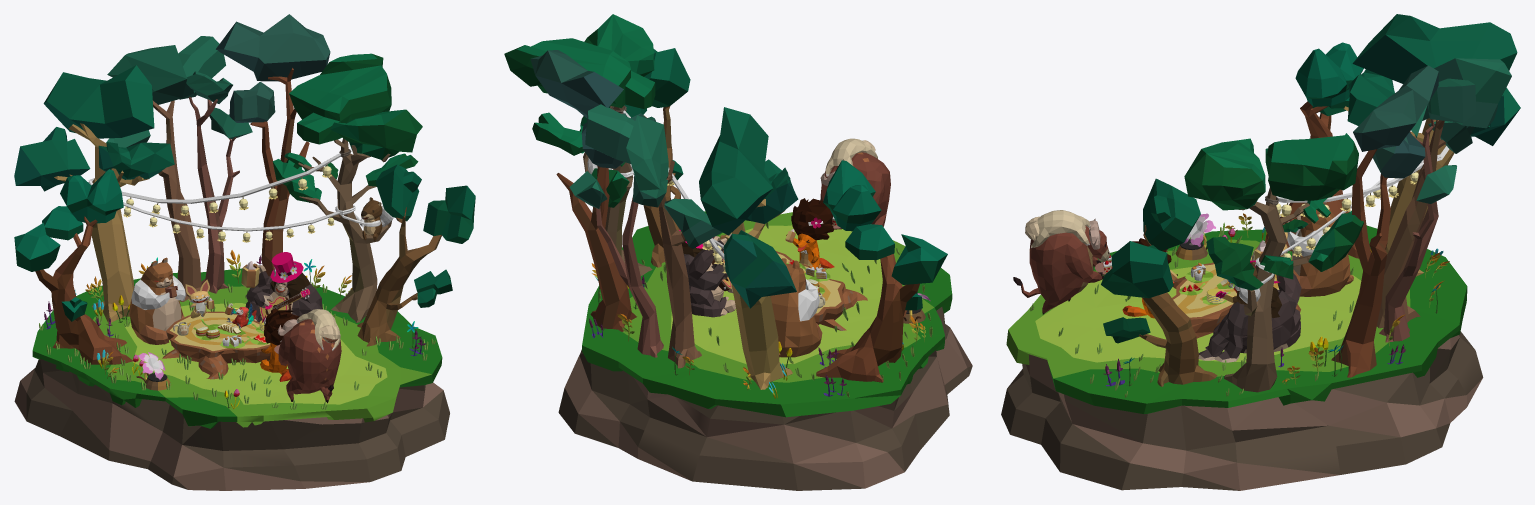
File: 0023_animalGarden.fbx
3 views of the same model, side by side, from view 1: azimuth 30°, elevation 25°; view 2: azimuth 150°, elevation 25°; view 3: azimuth 270°, elevation 25° (orthographic). The views are drawn at different scales.
Visible parts, largest first — view 1: Plate, TreeF_Leaf04, TreeB_Leaf02, TreeE_Leaf02, TreeF_Trunk, TreeA_Trunk, TreeB_Trunk, Stump_Shape, Cow_Body, TreeG_Trunk, TreeB_Leaf03, TreeF_Leaf05 (+27 smaller); view 2: Plate, TreeB_Leaf02, TreeA_Trunk, TreeF_Leaf04, TreeE_Trunk, TreeB_Leaf03, TreeB_Trunk, TreeC_Trunk, TreeE_Leaf02, TreeC_Leaf02, TreeD_Trunk, TreeA_Leaf02 (+24 smaller); view 3: Plate, TreeB_Leaf02, TreeE_Trunk, TreeF_Leaf04, TreeF_Trunk, TreeF_Leaf05, TreeE_Leaf02, Cow_Body, TreeG_Trunk, TreeG_Leaf03, TreeA_Leaf02, TreeG_Leaf02 (+23 smaller).
Boxes of the visible parts, x1,y1,x2,y2 form: Plate: [14, 268, 449, 490]; TreeF_Leaf04: [289, 53, 391, 144]; TreeB_Leaf02: [43, 65, 154, 138]; TreeE_Leaf02: [216, 14, 330, 81]; TreeF_Trunk: [298, 138, 391, 322]; TreeA_Trunk: [35, 216, 132, 364]; TreeB_Trunk: [54, 123, 149, 322]; Stump_Shape: [162, 311, 270, 379]; Cow_Body: [277, 318, 341, 403]; TreeG_Trunk: [357, 207, 441, 346]; TreeB_Leaf03: [14, 127, 90, 191]; TreeF_Leaf05: [330, 109, 422, 159]; Plate: [558, 211, 972, 490]; TreeB_Leaf02: [699, 107, 772, 235]; TreeA_Trunk: [816, 224, 919, 382]; TreeF_Leaf04: [504, 38, 655, 109]; TreeE_Trunk: [556, 166, 636, 331]; TreeB_Leaf03: [723, 230, 796, 308]; TreeB_Trunk: [731, 199, 792, 389]; TreeC_Trunk: [658, 160, 701, 368]; TreeE_Leaf02: [530, 50, 623, 118]; TreeC_Leaf02: [626, 115, 668, 207]; TreeD_Trunk: [596, 197, 663, 357]; TreeA_Leaf02: [823, 160, 881, 231]; Plate: [1001, 225, 1483, 490]; TreeB_Leaf02: [1352, 14, 1517, 83]; TreeE_Trunk: [1331, 149, 1390, 377]; TreeF_Leaf04: [1265, 133, 1358, 200]; TreeF_Trunk: [1224, 187, 1327, 392]; TreeF_Leaf05: [1184, 138, 1265, 210]; TreeE_Leaf02: [1353, 65, 1438, 151]; Cow_Body: [1013, 218, 1109, 314]; TreeG_Trunk: [1138, 225, 1217, 386]; TreeG_Leaf03: [1101, 241, 1173, 298]; TreeA_Leaf02: [1295, 42, 1363, 106]; TreeG_Leaf02: [1143, 178, 1200, 250].
Bounding box in the file's own units: 21.94 × 17.87 × 22.1.
